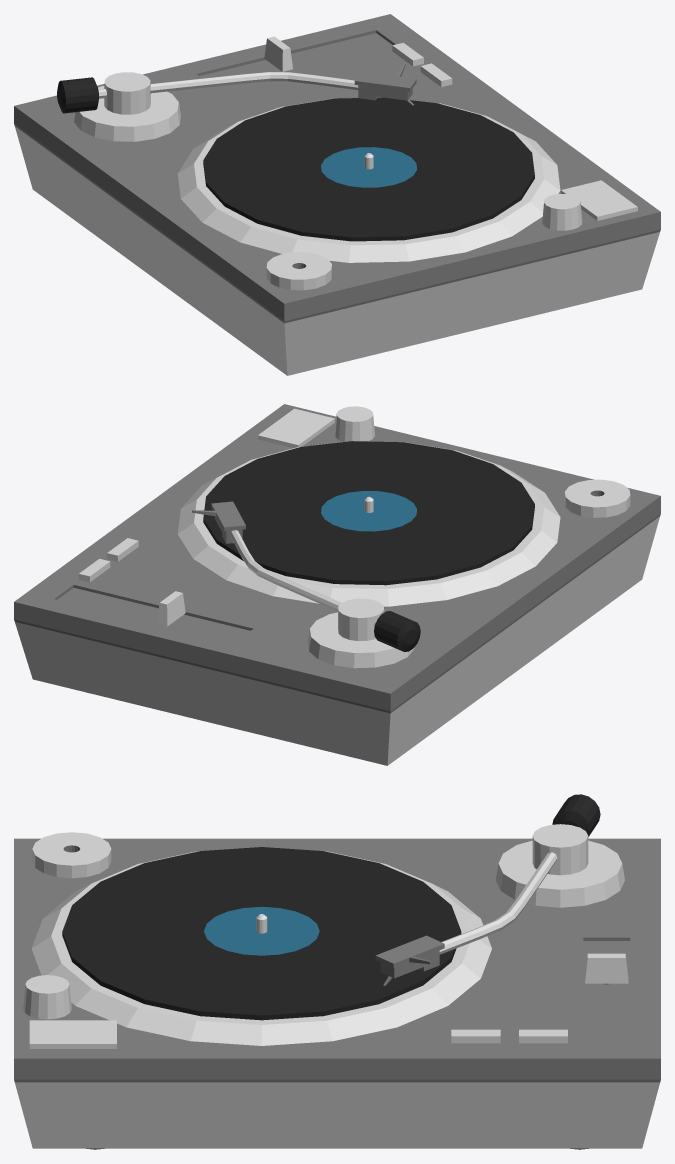
Rendered from record_player.glb.
3 views of the same model, one above another, from view 1: azimuth 30°, elevation 25°; view 2: azimuth 150°, elevation 25°; view 3: azimuth 270°, elevation 25° (orthographic). The views are drawn at different scales.
Parts seen in each view (by area): view 1: Record_Player; view 2: Record_Player; view 3: Record_Player.
Part boxes in pixels (box(x1,y1,x2,y2)): Record_Player: box(14, 14, 660, 375); Record_Player: box(14, 404, 660, 765); Record_Player: box(14, 794, 660, 1149).
Bounding box in the file's own units: 60.5 × 20.5 × 75.21.
1 material, 1 textured.
